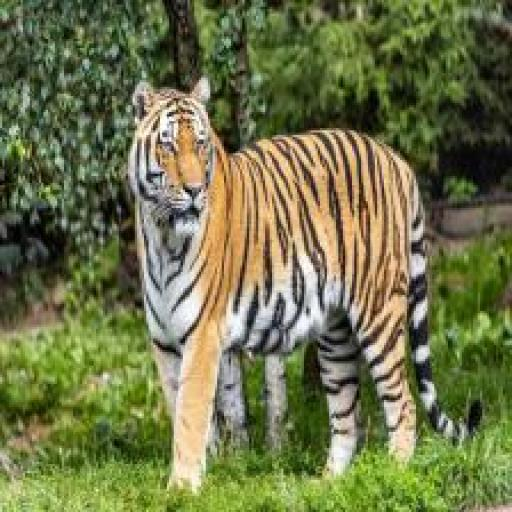Tiger: (117, 73, 490, 494)
